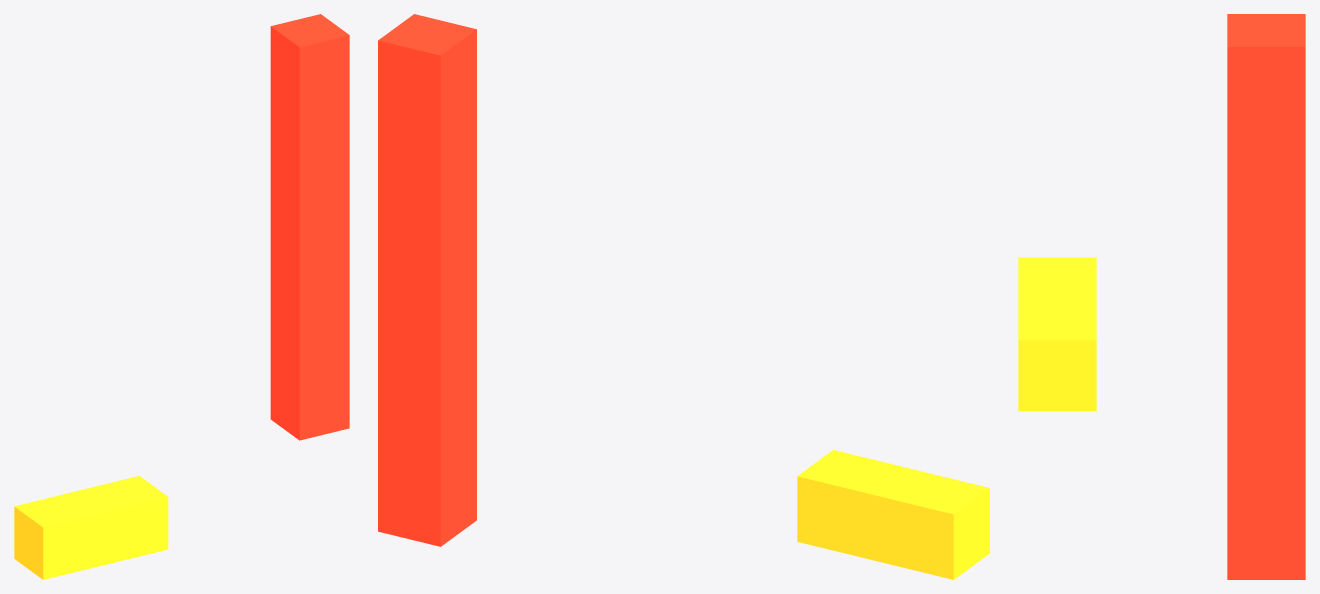
File: santaDestroyEff.gltf
The picture shows the model from 3 angles, left to right: view 1: azimuth 30°, elevation 25°; view 2: azimuth 150°, elevation 25°; view 3: azimuth 270°, elevation 25°; orthographic projection. The views are drawn at different scales.
Parts seen in each view (by area): view 1: particle.030, particle.045; view 2: particle.030, particle.045; view 3: particle.030, particle.045.
Part boxes in pixels (left/top/right/bottom): particle.030: left=270, top=14, right=349, bottom=440; particle.045: left=14, top=476, right=168, bottom=579; particle.030: left=378, top=14, right=476, bottom=546; particle.045: left=797, top=450, right=989, bottom=579; particle.030: left=1227, top=14, right=1305, bottom=579; particle.045: left=1018, top=257, right=1096, bottom=411.
Size of what is drawn, in the model's own units: 1.53 by 1.51 by 0.7332.
